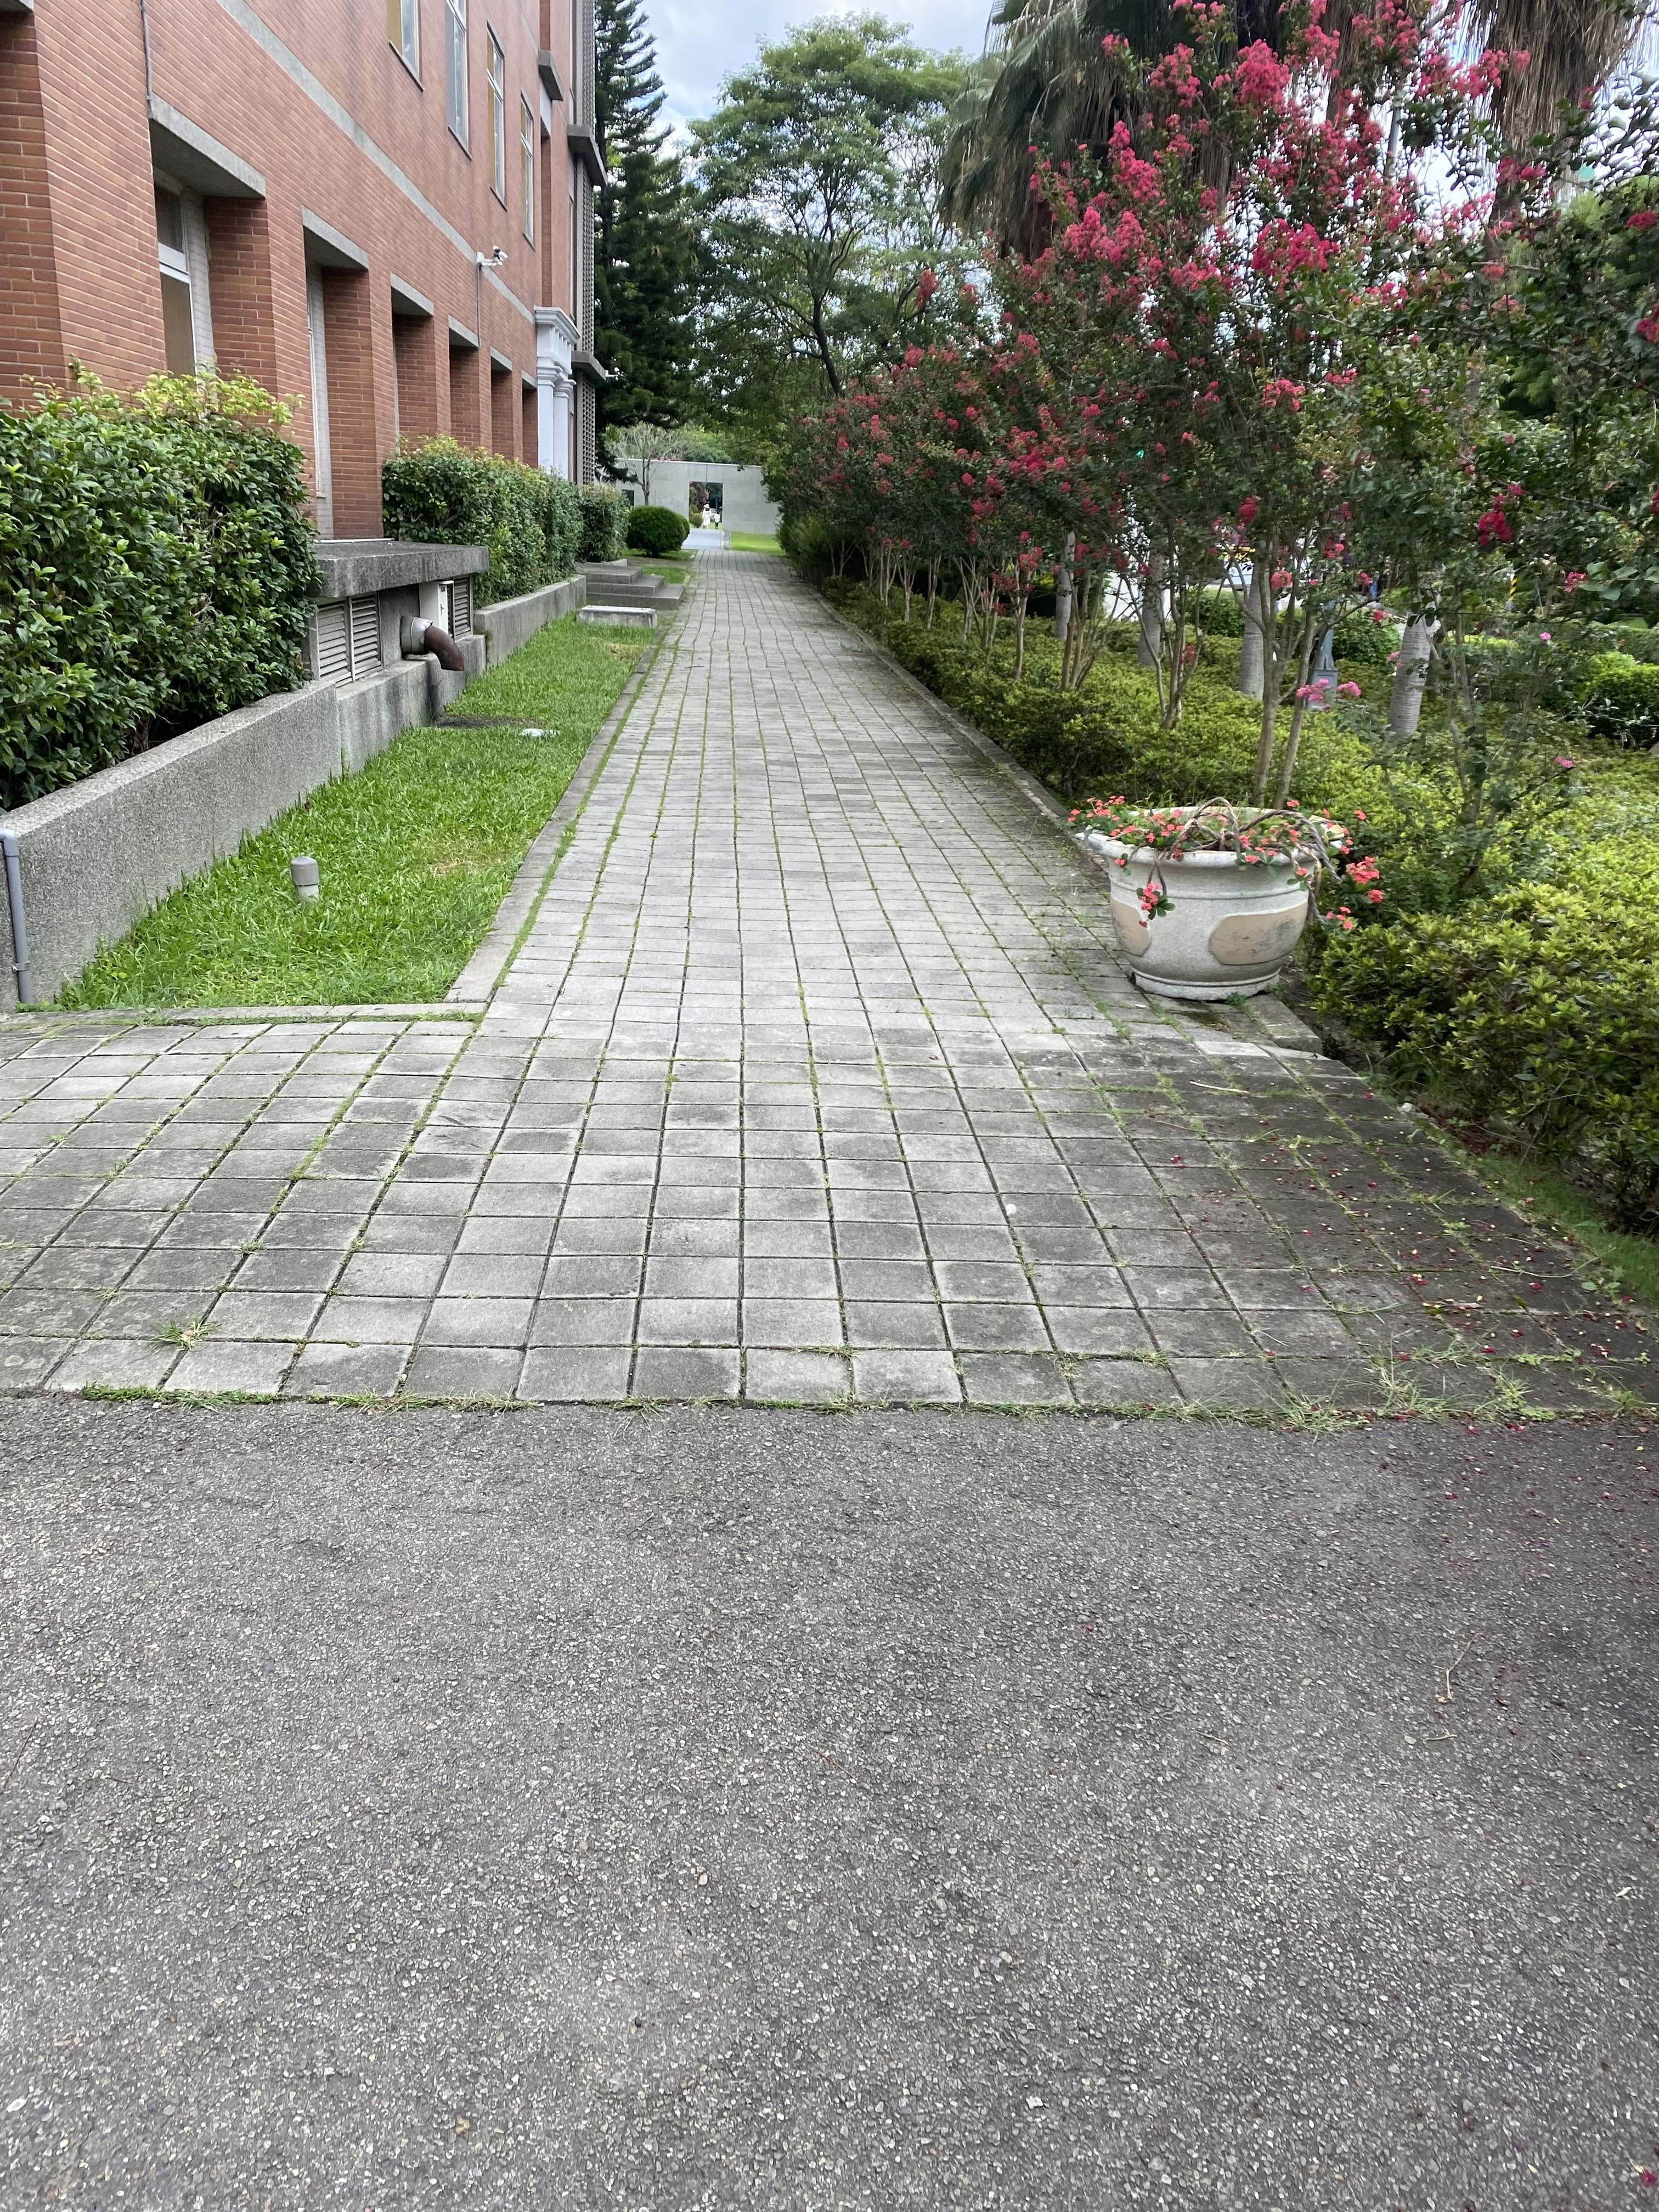sidewalk: (437, 505, 1601, 1686)
